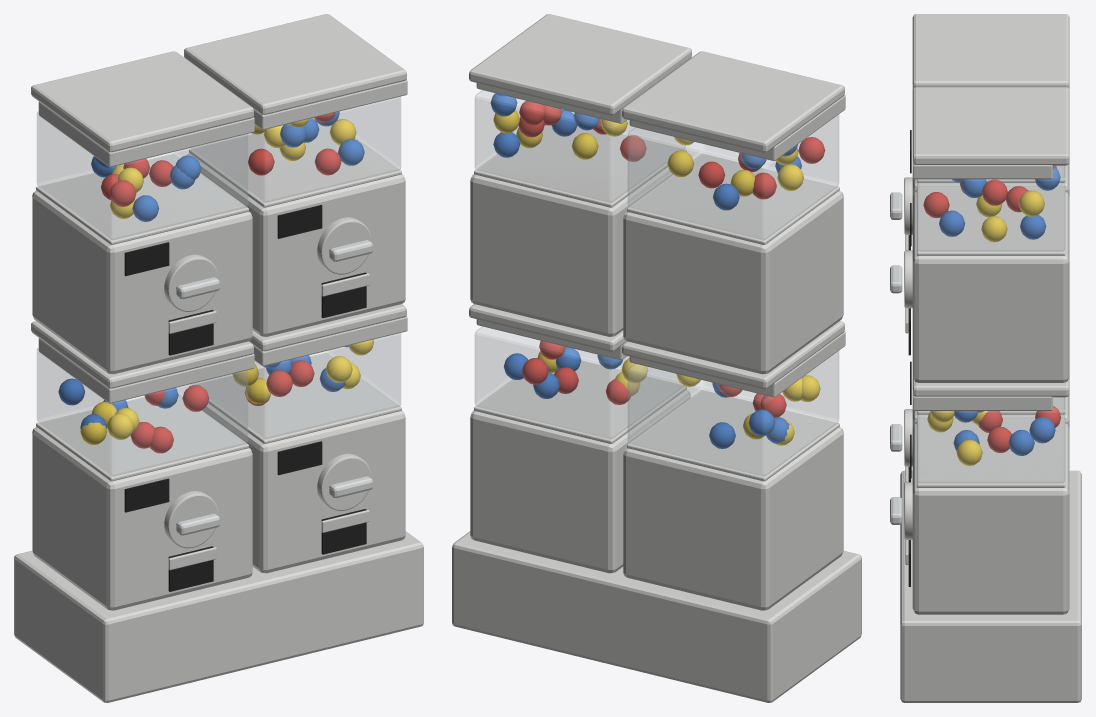
File: city-capsule-toy-vending-machines.glb
3 views of the same model, side by side, from view 1: azimuth 30°, elevation 25°; view 2: azimuth 150°, elevation 25°; view 3: azimuth 270°, elevation 25° (orthographic). The views are drawn at different scales.
Parts seen in each view (by area): view 1: Assembly | White moulded vending frame, Assembly | Clear acrylic globe, Assembly | Chute shadow, Assembly | Red capsule shell, Assembly | Yellow capsule shell, Assembly | Blue capsule shell, Assembly | Chrome crank knob; view 2: Assembly | White moulded vending frame, Assembly | Clear acrylic globe, Assembly | Red capsule shell, Assembly | Blue capsule shell, Assembly | Yellow capsule shell; view 3: Assembly | White moulded vending frame, Assembly | Clear acrylic globe, Assembly | Blue capsule shell, Assembly | Red capsule shell, Assembly | Yellow capsule shell, Assembly | Chrome crank knob, Assembly | Chute shadow.
Boxes of the visible parts, box(x1,y1,x2,y2) form: Assembly | White moulded vending frame: box(14, 14, 423, 702); Assembly | Clear acrylic globe: box(37, 96, 400, 475); Assembly | Chute shadow: box(124, 205, 366, 591); Assembly | Red capsule shell: box(101, 112, 341, 453); Assembly | Yellow capsule shell: box(80, 119, 373, 444); Assembly | Blue capsule shell: box(58, 111, 364, 429); Assembly | Chrome crank knob: box(176, 240, 372, 535); Assembly | White moulded vending frame: box(452, 14, 861, 702); Assembly | Clear acrylic globe: box(475, 90, 838, 475); Assembly | Red capsule shell: box(518, 100, 825, 417); Assembly | Blue capsule shell: box(490, 93, 801, 448); Assembly | Yellow capsule shell: box(493, 110, 820, 445); Assembly | White moulded vending frame: box(900, 14, 1081, 702); Assembly | Clear acrylic globe: box(917, 165, 1065, 482); Assembly | Blue capsule shell: box(939, 166, 1060, 455); Assembly | Red capsule shell: box(923, 165, 1061, 452); Assembly | Yellow capsule shell: box(927, 190, 1044, 465); Assembly | Chrome crank knob: box(890, 192, 902, 524); Assembly | Chute shadow: box(908, 130, 911, 586).
Size of the model in its own units: 0.88 by 1.46 by 0.465.
